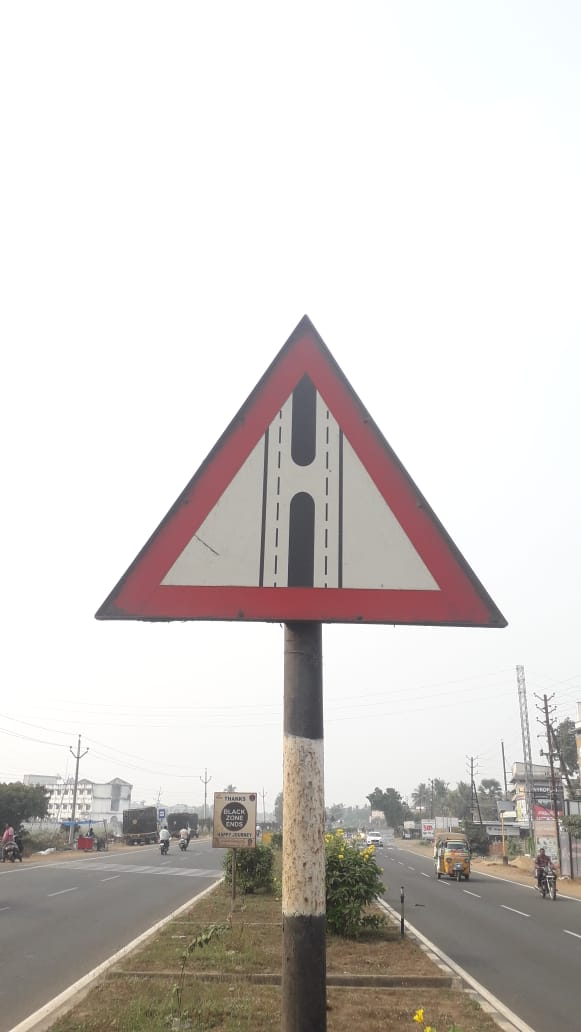highway go straight: (81, 299, 527, 665)
